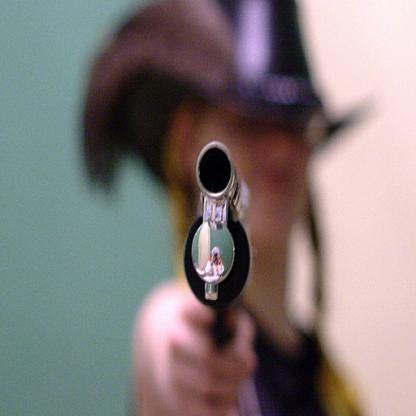gun: (180, 140, 258, 415), (183, 137, 254, 414)
